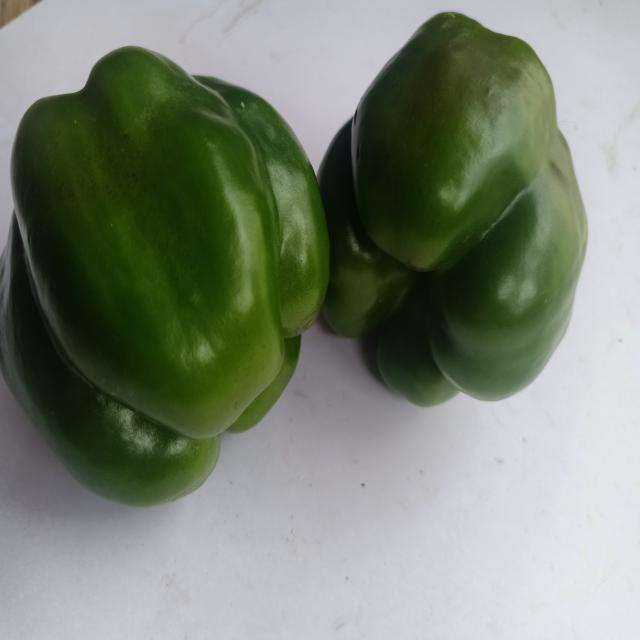Capsicum: (0, 38, 329, 527), (311, 12, 599, 438)
